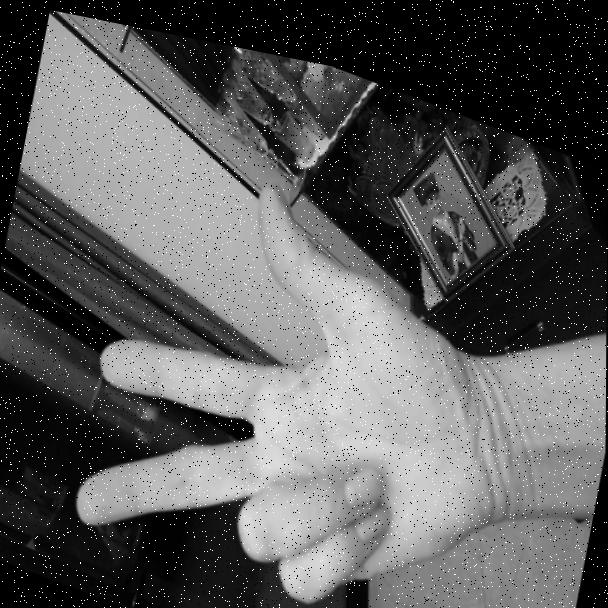three: (66, 114, 491, 608)
